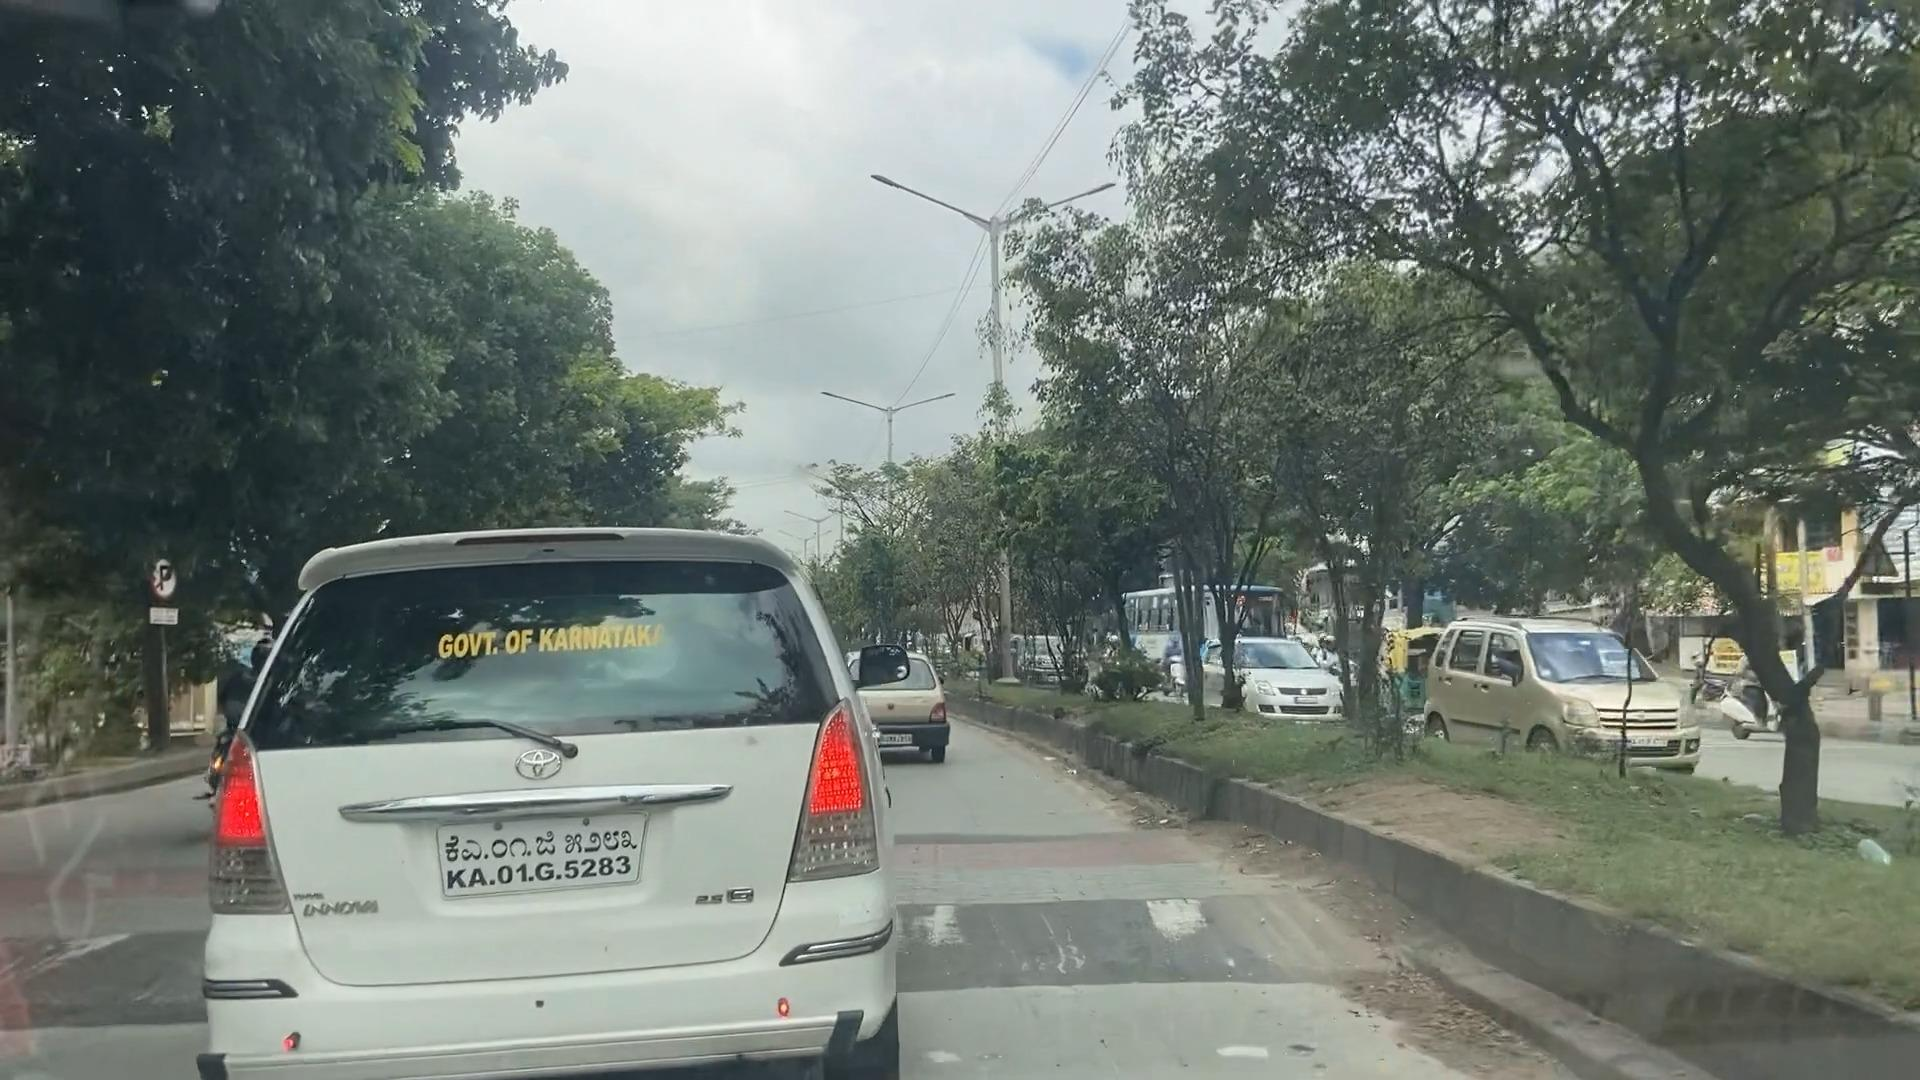LMV: (198, 452, 901, 1080)
